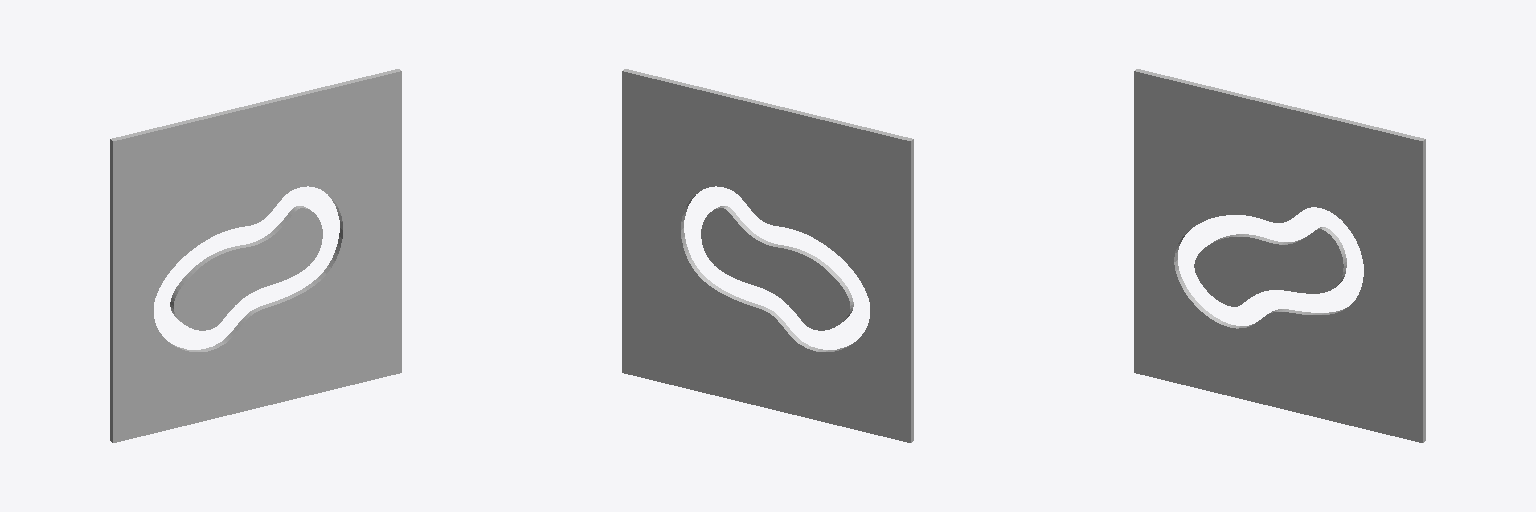
File: Walls.obj
3 renders of one model, left to right at view 1: azimuth 30°, elevation 25°; view 2: azimuth 150°, elevation 25°; view 3: azimuth 330°, elevation 25°, orthographic.
Visible parts, largest first — view 1: Walls_Plane.004; view 2: Walls_Plane.004; view 3: Walls_Plane.004.
Part boxes in pixels (bbox=[...]): Walls_Plane.004: bbox=[110, 69, 401, 442]; Walls_Plane.004: bbox=[622, 69, 913, 442]; Walls_Plane.004: bbox=[1134, 69, 1425, 442].
Bounding box in the file's own units: 50 × 50 × 1.